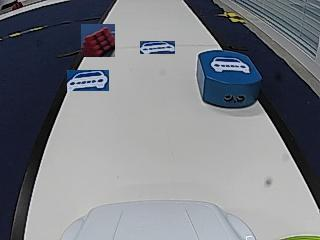safety: (210, 56, 251, 74)
